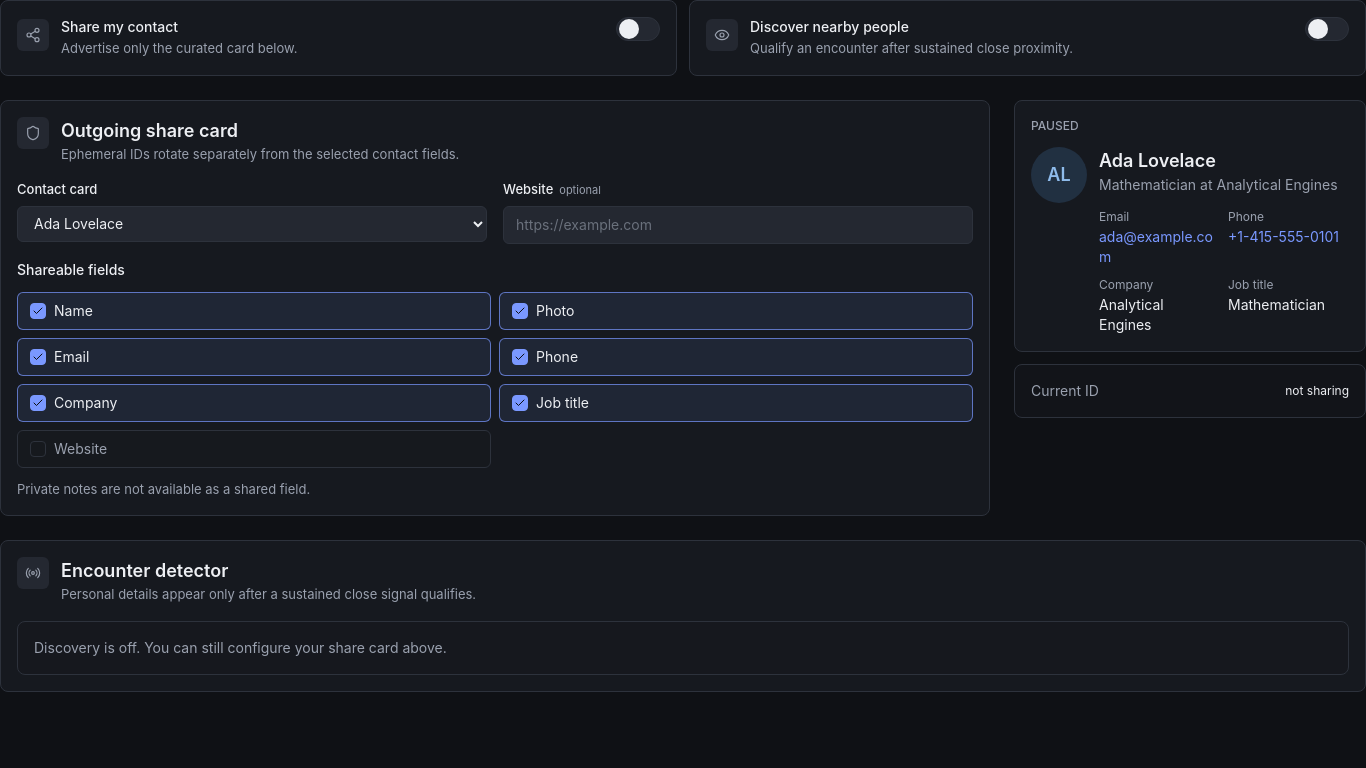
Test: NearbyContactSharing › updates the outgoing card when a share field is removed
Expected: the link "ada@example.com" is shown, [1099,228,1213,264]
Click the checkbox labelled "Email" at (72, 356), box [17,338,491,376]
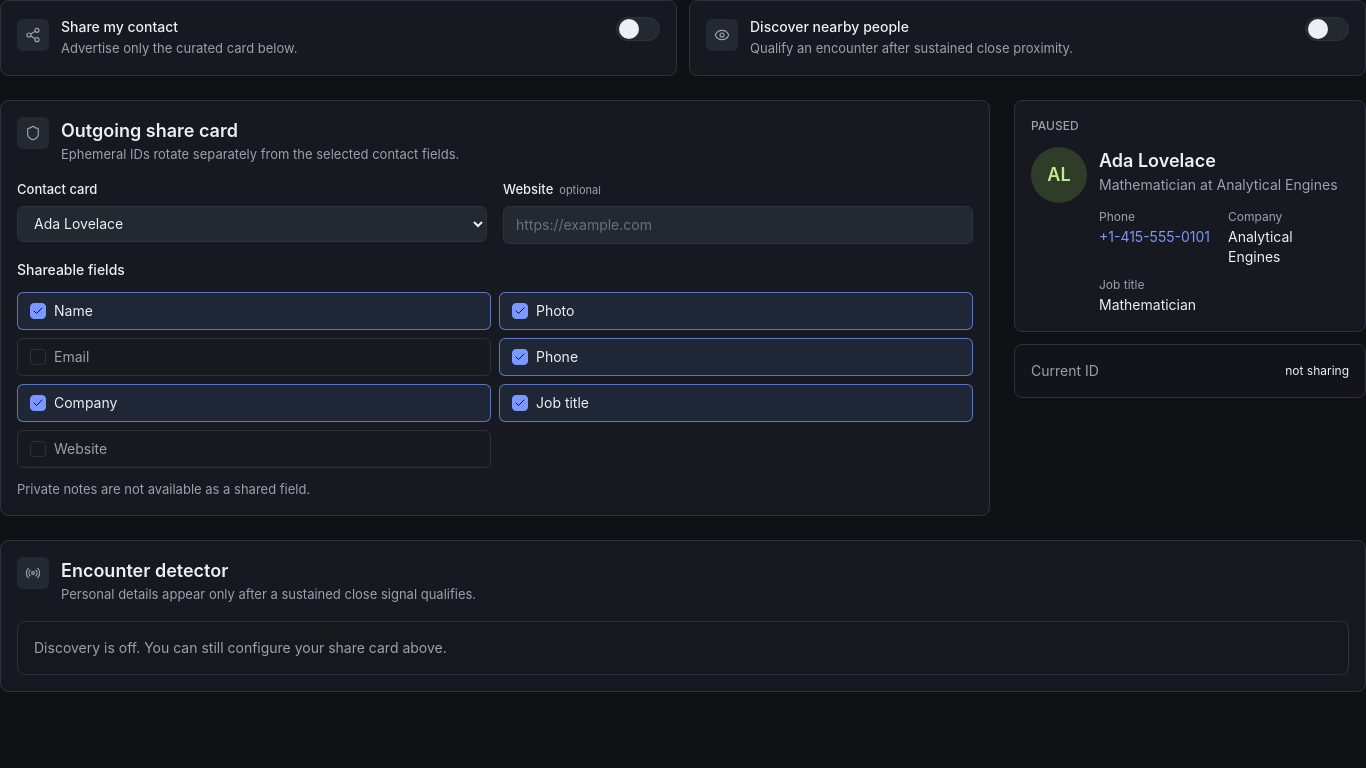
Now the link "ada@example.com" is gone
